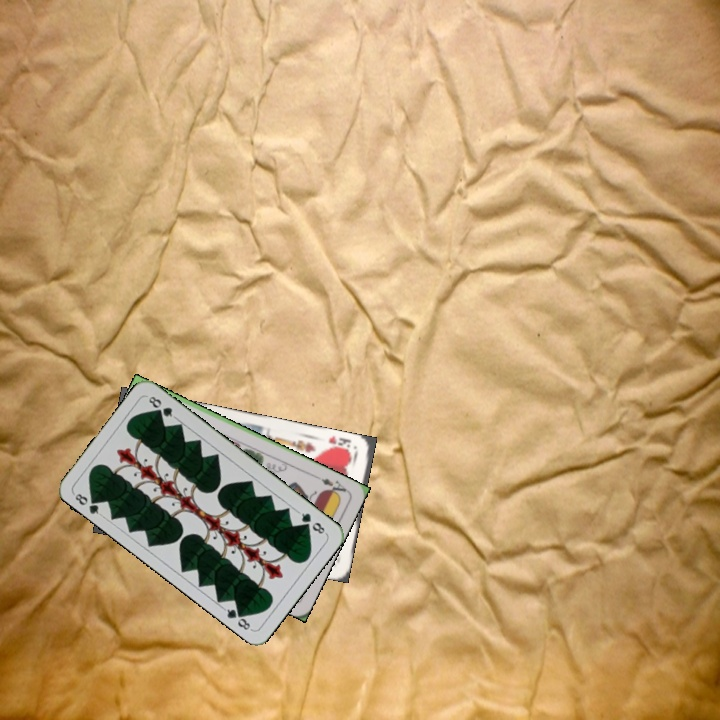EA: (312, 472, 350, 499)
G8: (70, 489, 105, 519), (294, 508, 329, 537)
HK: (321, 432, 354, 455)
